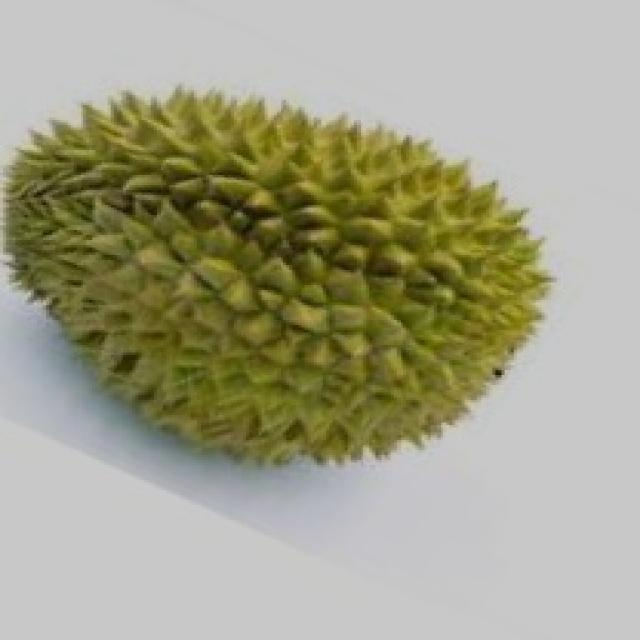fruit: (231, 98, 609, 528), (3, 168, 375, 530)
